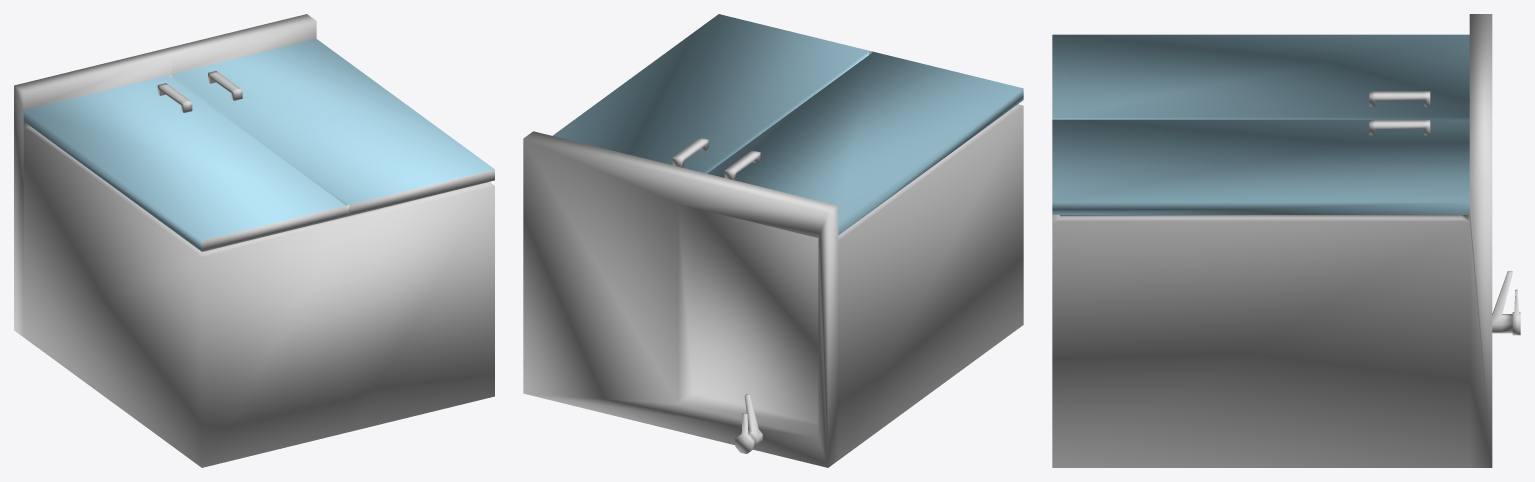
The model's file is wash_closet.fbx.
3 views of the same model, side by side, from view 1: azimuth 30°, elevation 25°; view 2: azimuth 150°, elevation 25°; view 3: azimuth 270°, elevation 25° (orthographic). The views are drawn at different scales.
Parts seen in each view (by area): view 1: Мойка; view 2: Мойка; view 3: Мойка.
Boxes of the visible parts, box(x1,y1,x2,y2) form: Мойка: box(14, 14, 494, 467); Мойка: box(523, 14, 1023, 467); Мойка: box(1052, 14, 1520, 467).
Size of the model in its own units: 81 by 64.7 by 95.74.
